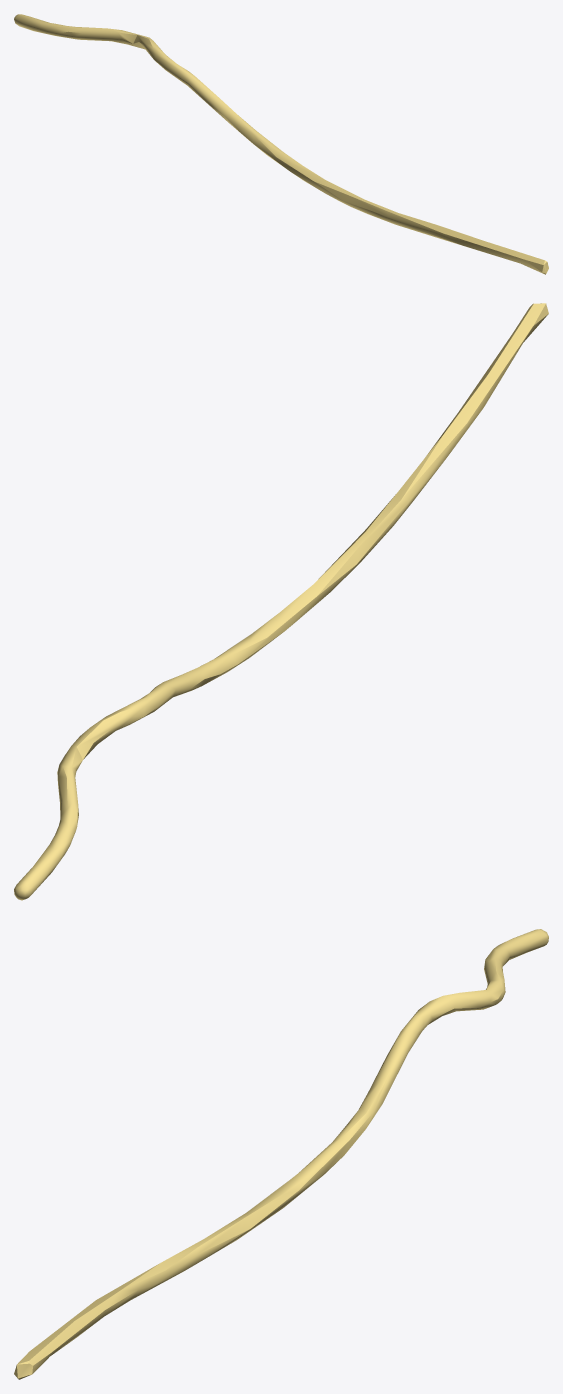
The model's file is fma52698_fj4011.glb.
3 views of the same model, one above another, from view 1: azimuth 30°, elevation 25°; view 2: azimuth 150°, elevation 25°; view 3: azimuth 330°, elevation 25° (orthographic). The views are drawn at different scales.
Parts seen in each view (by area): view 1: FMA52698_FJ4011; view 2: FMA52698_FJ4011; view 3: FMA52698_FJ4011.
Boxes of the visible parts, left/top/right/bottom form: FMA52698_FJ4011: left=14, top=14, right=548, bottom=274; FMA52698_FJ4011: left=14, top=303, right=548, bottom=900; FMA52698_FJ4011: left=14, top=929, right=548, bottom=1379.
Size of the model in its own units: 0.00653 by 0.00382 by 0.0504.
